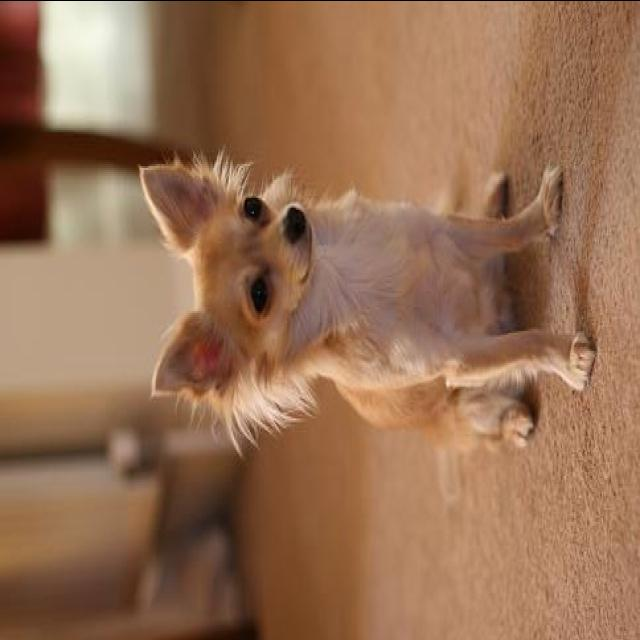chihuahua: (138, 159, 598, 461)
